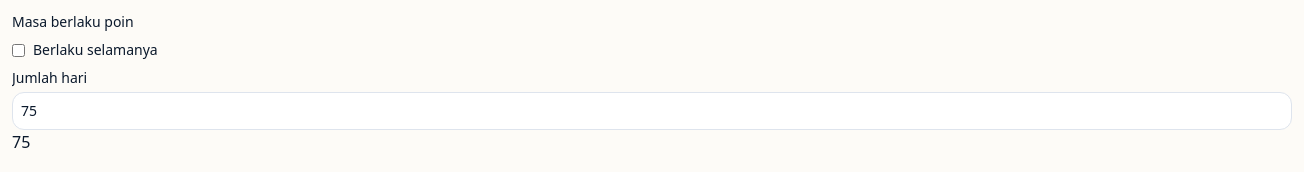
Test: forever checkbox hides days, stores permanent expiry and restores the previous duration
Click the checkbox labelled "Berlaku selamanya" at (18, 50), box [12,44,25,56]
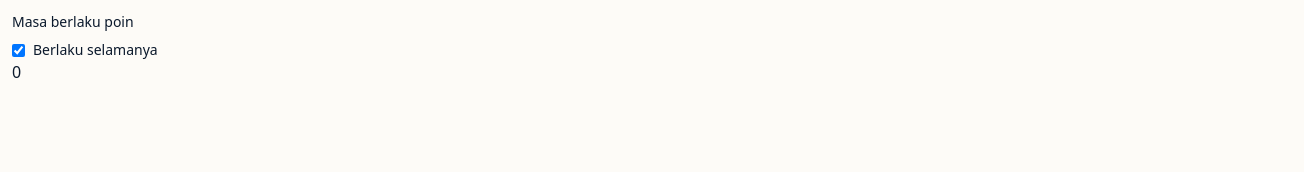
Check: the text "0" is shown, box [12,61,21,83]
Check: the number field is gone
Click the checkbox labelled "Berlaku selamanya" at (18, 50), box [12,44,25,56]
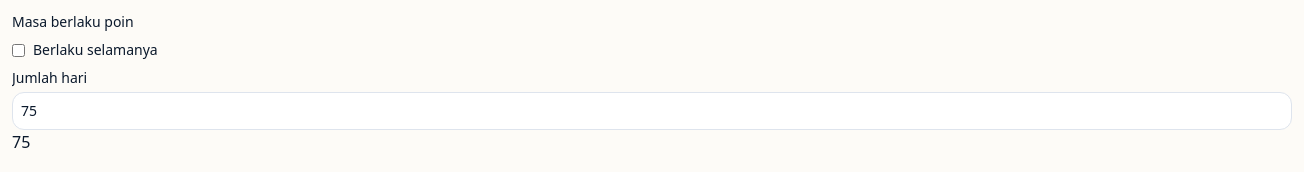
Check: the number field labelled "Jumlah hari" holds "75", box [12,92,1292,130]
